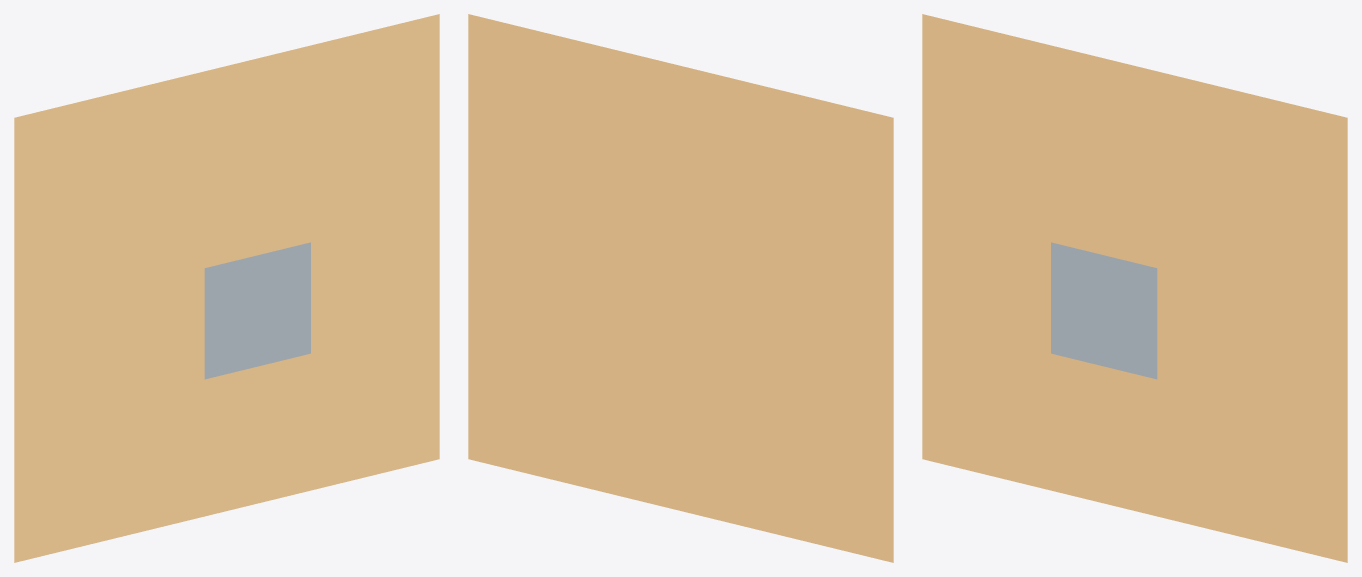
File: tilted.glb
3 views of the same model, side by side, from view 1: azimuth 30°, elevation 25°; view 2: azimuth 150°, elevation 25°; view 3: azimuth 330°, elevation 25° (orthographic).
Parts seen in each view (by area): view 1: emitter-target, glass-front; view 2: emitter-target; view 3: emitter-target, glass-front.
Boxes of the visible parts, box(x1,y1,x2,y2) form: emitter-target: box(14, 14, 439, 562); glass-front: box(204, 242, 310, 379); emitter-target: box(468, 14, 893, 562); emitter-target: box(922, 14, 1347, 562); glass-front: box(1051, 242, 1157, 379).
Size of the model in its own units: 8 by 8 by 1.
